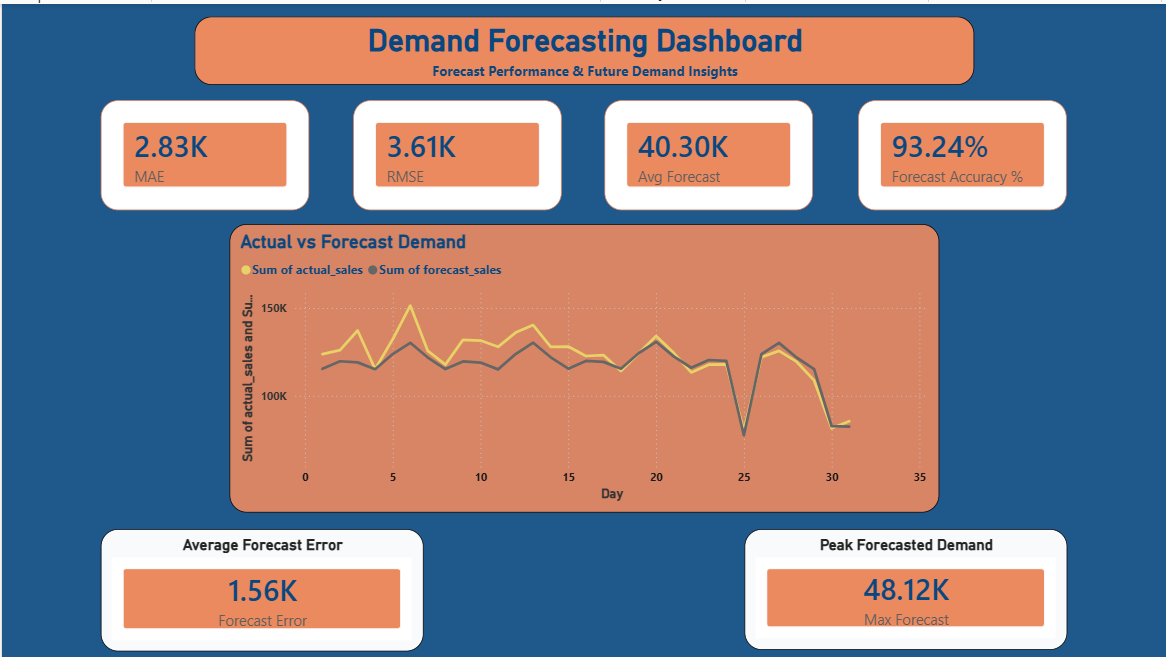

What the dashboard file says about the page in this screenshot:
{"tool":"powerbi","page":{"name":"Demand Forecasting","canvas":[1280,720],"ordinal":2},"visuals":[{"type":"textbox","title":"Demand Forecasting Dashboard","box":[211.3,13.7,856.3,75.5],"z":0},{"type":"lineChart","title":"Actual vs Forecast Demand","fields":{"Category":["actual_vs_forecast.date.Variation.Date Hierarchy.Day"],"Y":["Sum(actual_vs_forecast.actual_sales)","Sum(actual_vs_forecast.forecast_sales)"]},"box":[249.7,241.5,779.4,317],"z":1000},{"type":"cardVisual","fields":{"Data":["actual_vs_forecast.Forecast Accuracy %"]},"box":[940,105.7,229.2,120.8],"z":2000},{"type":"cardVisual","title":"Average Forecast Error","fields":{"Data":["actual_vs_forecast.Forecast Error"]},"box":[108.4,576.3,354,134.5],"z":3000},{"type":"cardVisual","title":"Peak Forecasted Demand","fields":{"Data":["actual_vs_forecast.Max Forecast"]},"box":[815.1,576.3,354,133.1],"z":7000},{"type":"cardVisual","fields":{"Data":["feature_engineered_data.MAE"]},"box":[108.4,105.7,229.2,120.8],"z":8000},{"type":"cardVisual","fields":{"Data":["feature_engineered_data.RMSE"]},"box":[385.6,105.7,229.2,120.8],"z":9000},{"type":"cardVisual","fields":{"Data":["actual_vs_forecast.Avg Forecast"]},"box":[661.4,105.7,229.2,120.8],"z":10000}]}

Visuals, with their boxes in screenshot pixels (x1, y1, x2, y2), scaled from the page's 1280x720 canvas onto the 1166x657 screenshot:
"Demand Forecasting Dashboard" textbox: bbox=[192, 13, 973, 81]
"Actual vs Forecast Demand" lineChart: bbox=[227, 220, 937, 510]
cardVisual - actual_vs_forecast.Forecast Accuracy %: bbox=[856, 96, 1065, 207]
"Average Forecast Error" cardVisual: bbox=[99, 526, 421, 649]
"Peak Forecasted Demand" cardVisual: bbox=[743, 526, 1065, 647]
cardVisual - feature_engineered_data.MAE: bbox=[99, 96, 308, 207]
cardVisual - feature_engineered_data.RMSE: bbox=[351, 96, 560, 207]
cardVisual - actual_vs_forecast.Avg Forecast: bbox=[602, 96, 811, 207]
